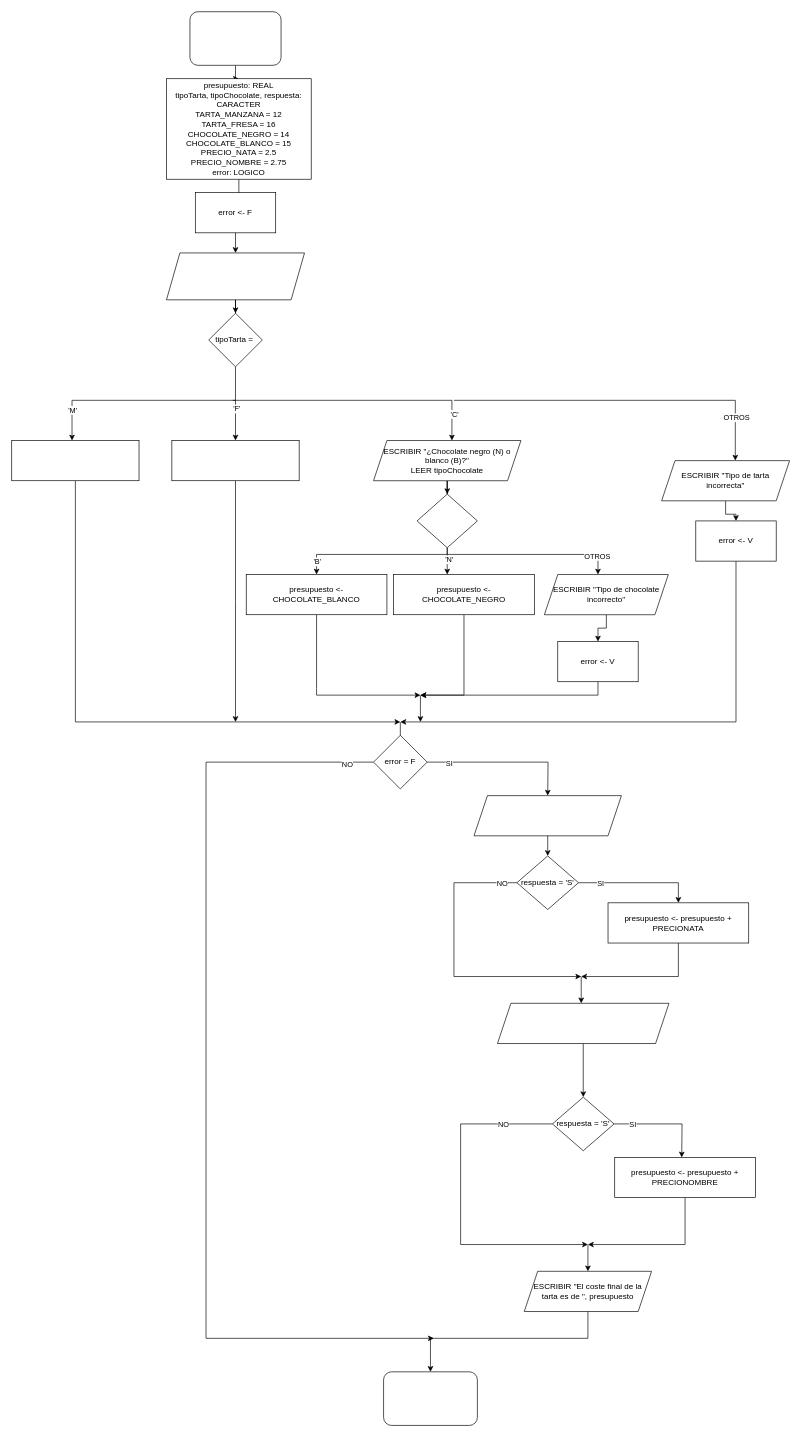
Some shapes in this 801 by 1437 pixel diagram are drawn without their labels. The centre of each missing label's shape, as x and y in pixels:
ESCRIBIR "¿Desea añadirle nata?" LEER respuesta: pixel 547 815
ESCRIBIR "¿Desea añadirle un nombre personalizado?" LEER respuesta: pixel 583 1023
ESCRIBIR "¿Qué tipo de tarta quiere?" LEER tipoTarta: pixel 235 276
FIN: pixel 430 1398
INICIO: pixel 235 38
presupuesto <- TARTA_FRESA: pixel 235 460
presupuesto <- TARTA_MANZANA: pixel 75 460
tipoChocolate =: pixel 446 520
